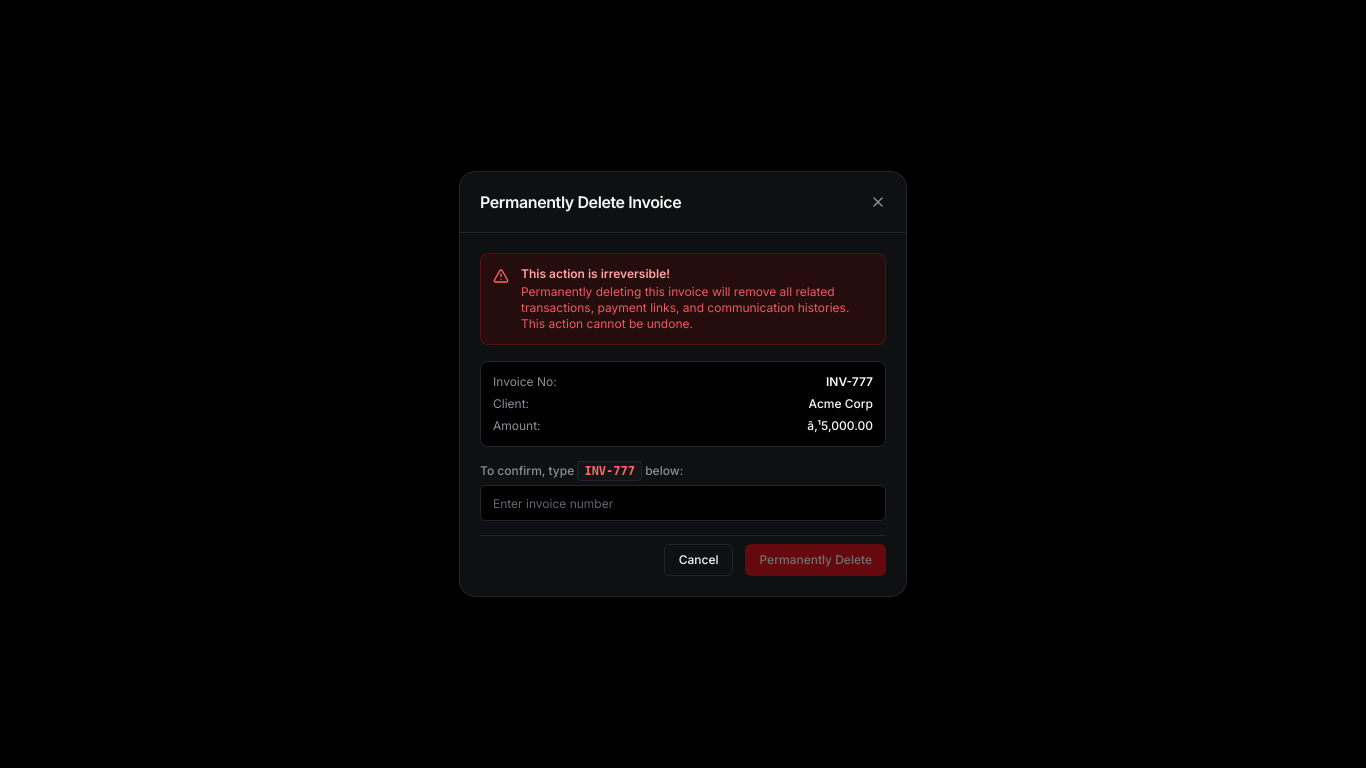
Test: ConfirmDestructiveModal component › disables the confirmation button until the user types the exact invoice number
Expected: the button "Permanently Delete" is disabled, [746, 544, 886, 576]
Note: Type incorrect value
In the field with placeholder "Enter invoice number": point(683, 503) [480, 485, 886, 521], type "INV-77"
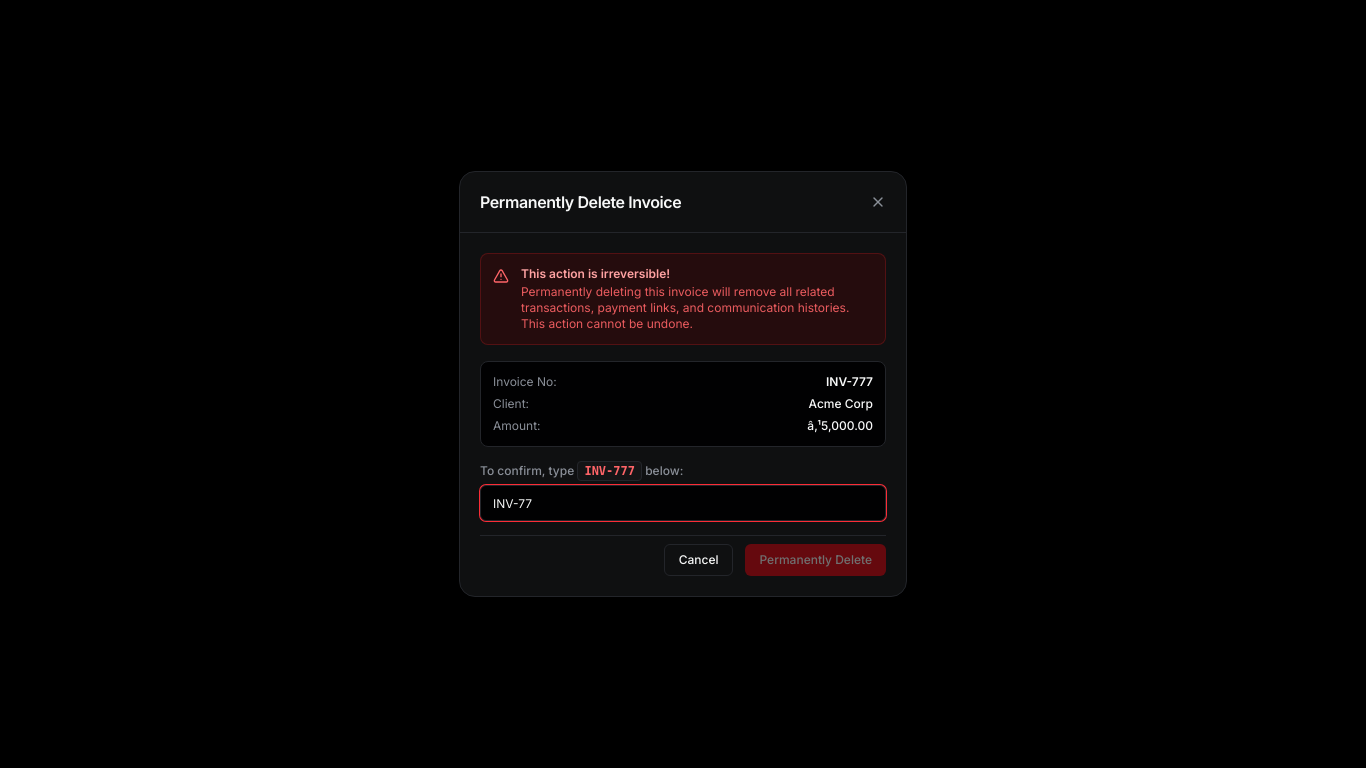
Expected: the button "Permanently Delete" is disabled, [746, 544, 886, 576]
Note: Type correct value
In the field with placeholder "Enter invoice number": point(683, 503) [480, 485, 886, 521], type "7"
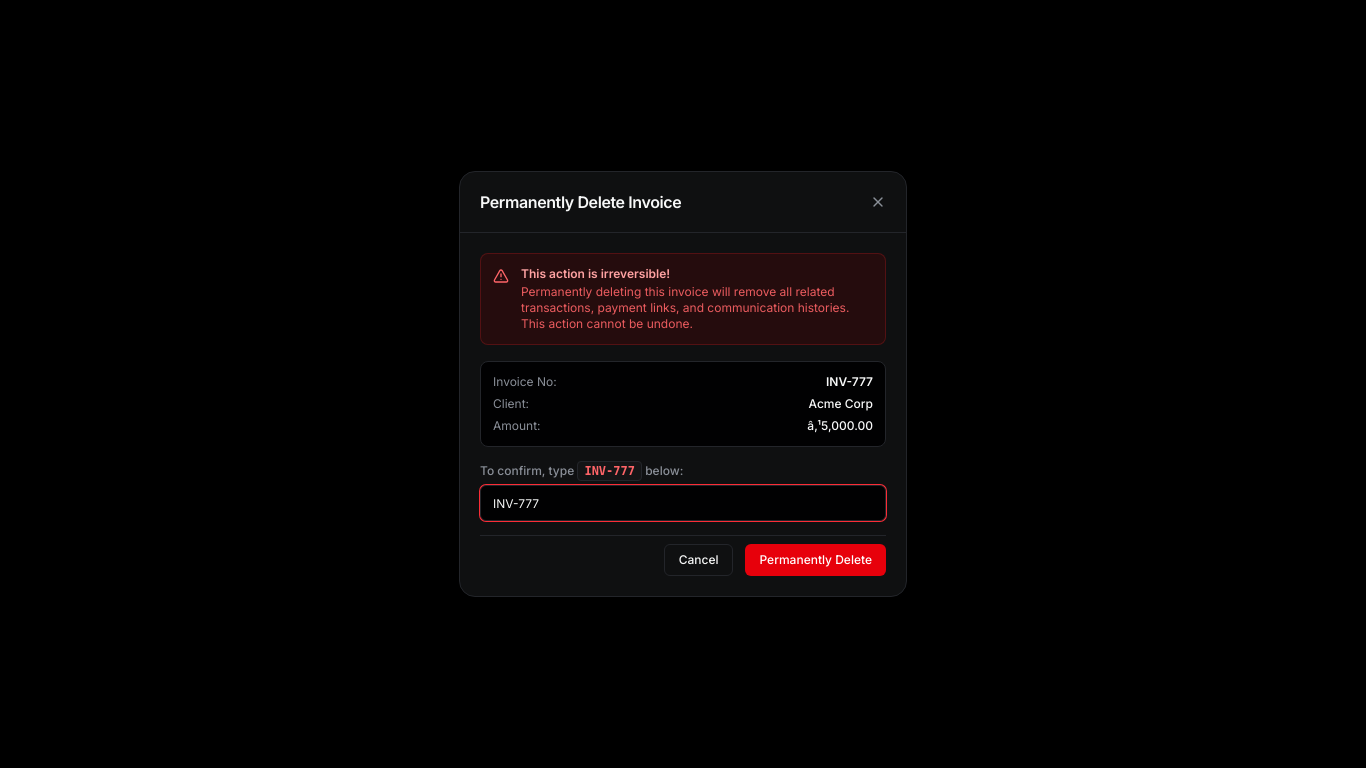
Expected: the button "Permanently Delete" is enabled, [746, 544, 886, 576]
